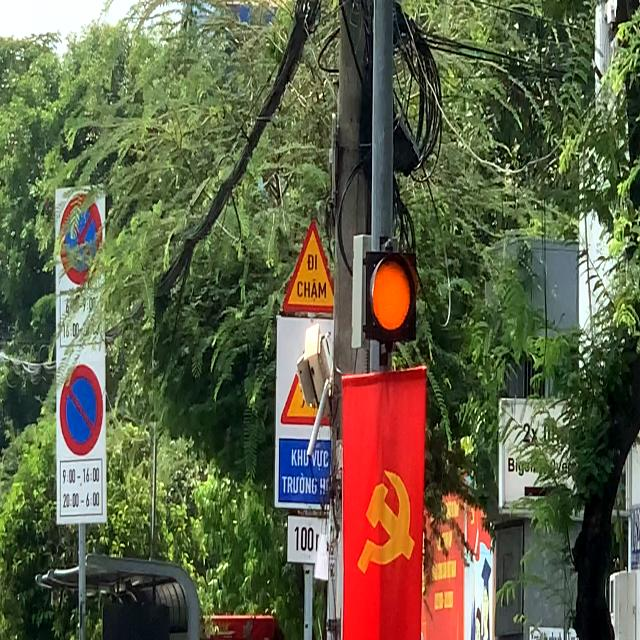W.245a: (281, 218, 344, 320)
